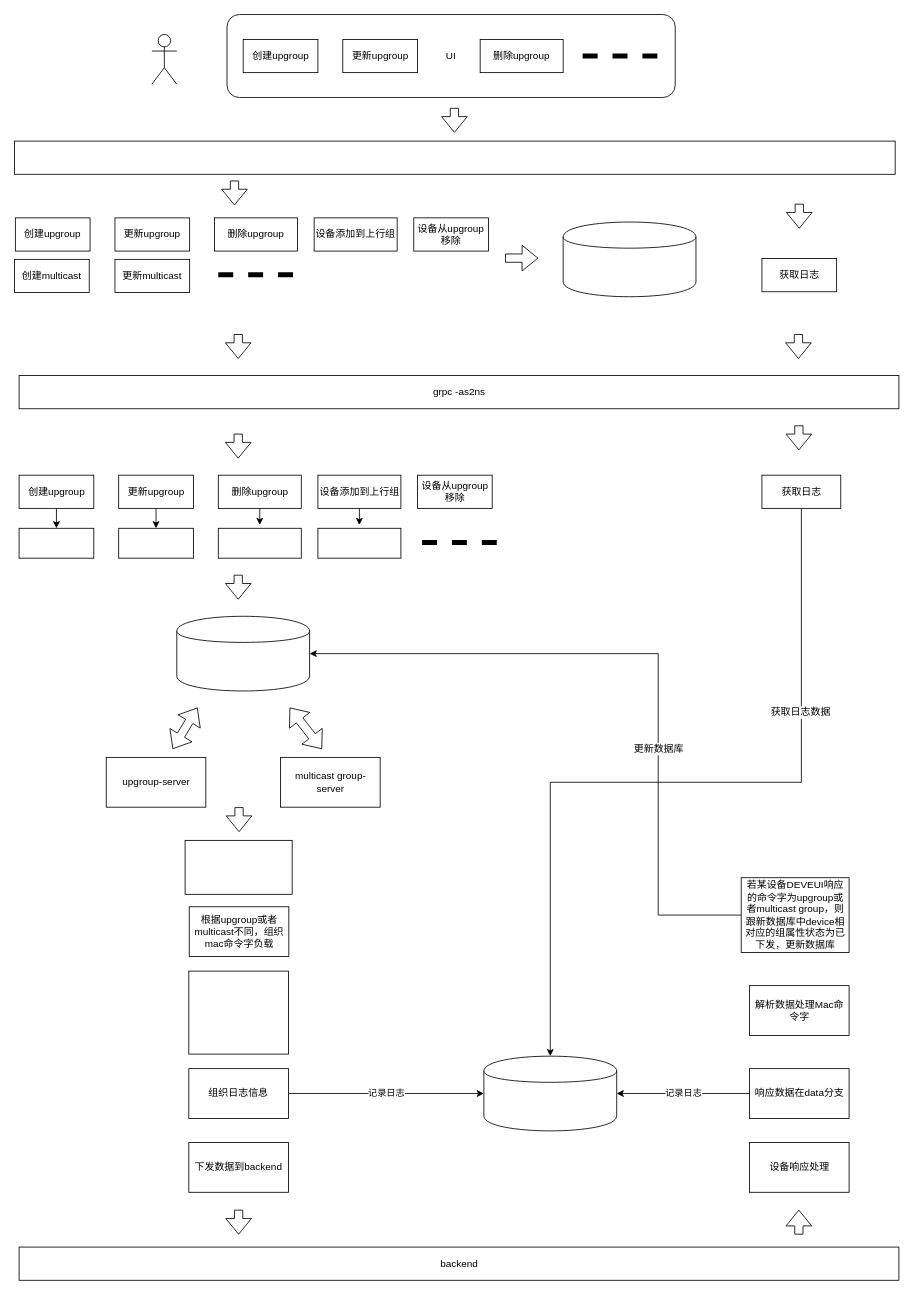
The diagram is 914 pixels wide and 1295 high, and some of its shapes have lost their labels. Here are the shapes that lost their labels. From the top down, the centre of each, then its label:
At point (164, 59): "Actor".
At point (454, 157): "grpc-as".
At point (629, 259): "postgres chirpstack-as".
At point (56, 542): "创建upgrouppool".
At point (155, 542): "重置upgrouppool".
At point (259, 542): "删除upgrouppool".
At point (359, 542): "去重处理".
At point (243, 653): "postgres chirpstack-ns".
At point (238, 867): "若为upgroup则分配上行组序号，分配给设备，设置下发状态为未下发，并更新数据库".
At point (238, 1012): "根据记录的gateway信息组织rxinfo，其中包括：网关id；根根信道计算规则计算单点下发信道；发送时间等".
At point (550, 1093): "redis".
